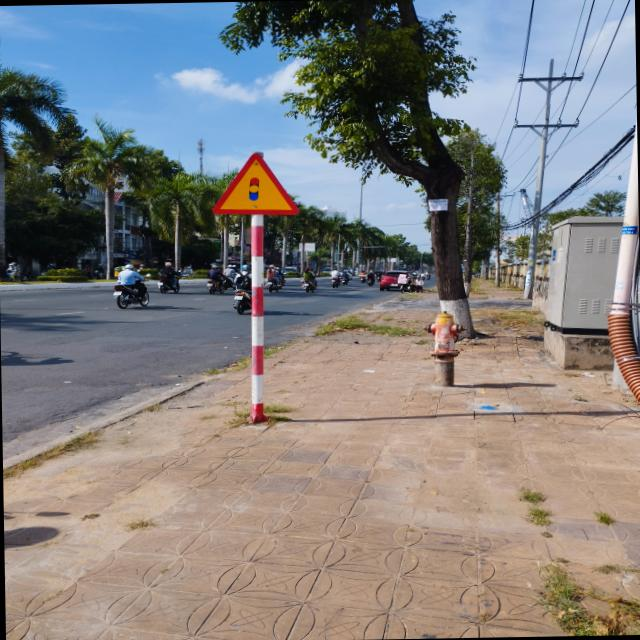Duong_Co_Go_Giam_Toc: (210, 152, 298, 215)
